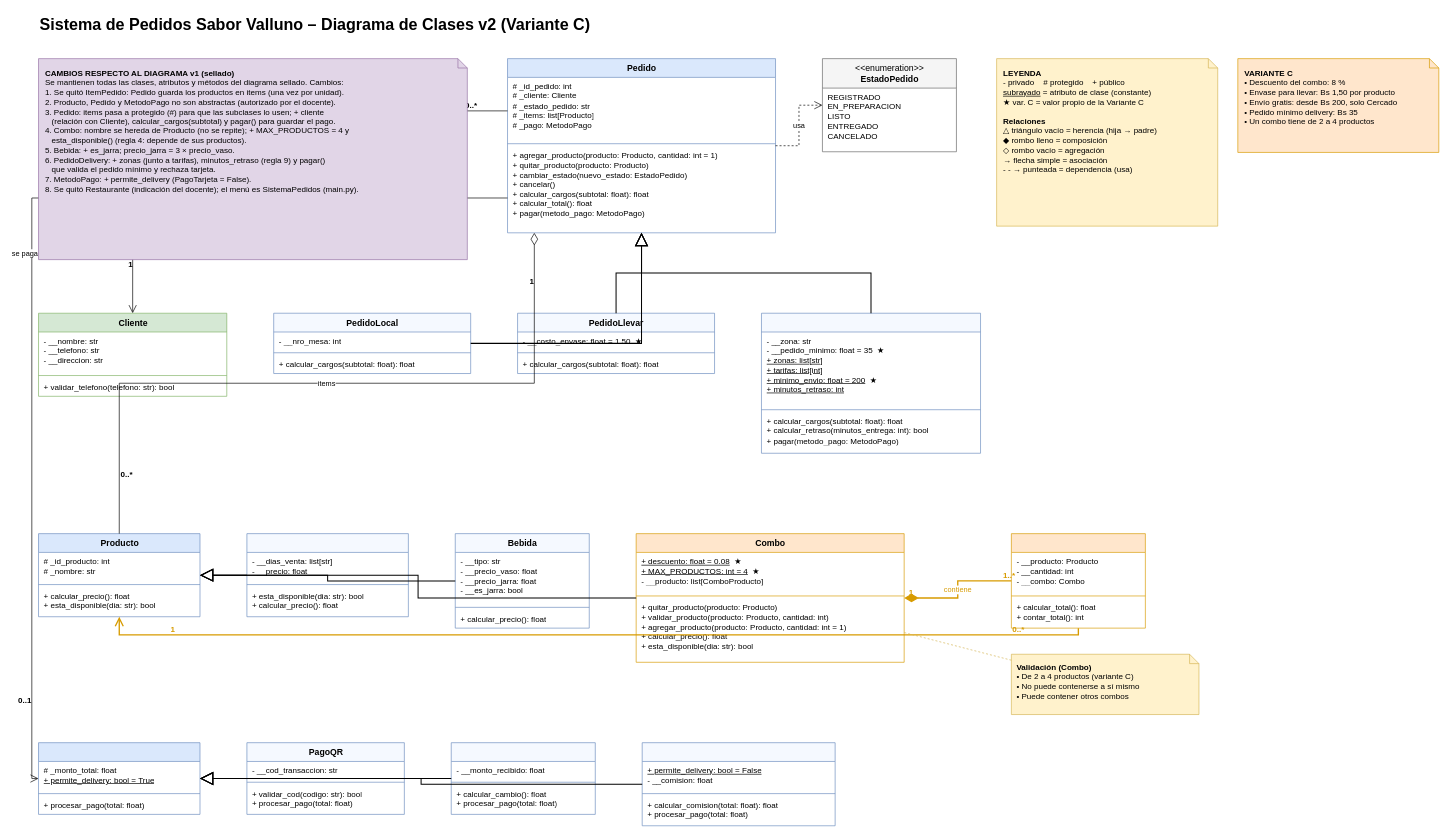
This 1451x839 diagram has some shape labels left out. The shapes that lost their labels are listed below. From the top down, each one's box as (x1, y1, x2, y2) in pixels, then its label:
(761, 313, 981, 453): PedidoDelivery
(246, 533, 408, 617): Plato
(1011, 533, 1145, 628): ComboProducto
(38, 742, 200, 814): MetodoPago
(451, 742, 595, 814): PagoEfectivo
(642, 742, 835, 826): PagoTarjeta
